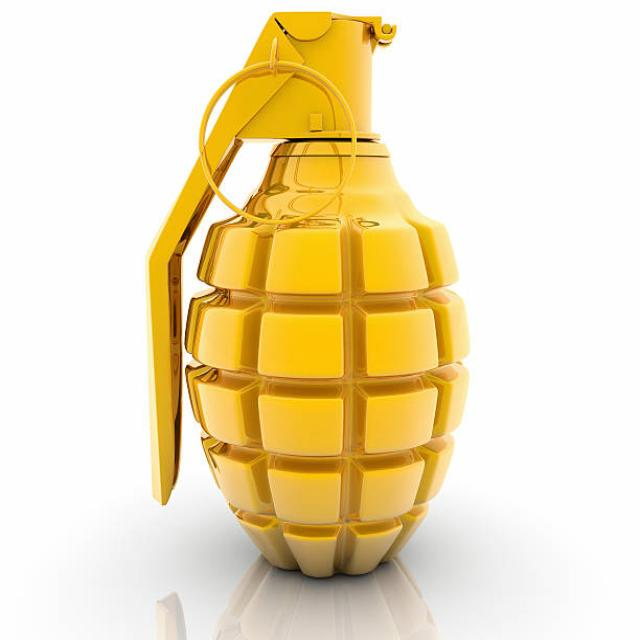grenade: (127, 6, 478, 588)
